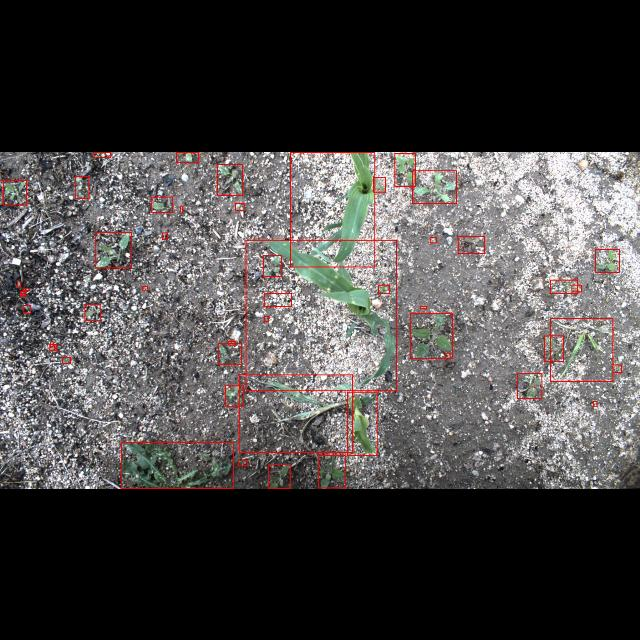crop: (246, 240, 396, 390), (291, 152, 375, 266), (239, 374, 353, 452), (347, 391, 377, 455)
weed: (121, 442, 233, 488), (551, 318, 613, 380), (410, 312, 452, 358), (412, 170, 456, 202), (96, 231, 130, 267), (318, 454, 346, 488), (218, 163, 242, 194), (394, 152, 416, 185), (516, 374, 542, 398), (3, 180, 27, 204), (595, 248, 619, 272), (268, 464, 290, 488), (544, 335, 564, 361), (218, 342, 242, 363), (458, 235, 484, 252), (263, 254, 281, 276), (264, 292, 292, 306), (550, 279, 578, 293), (225, 385, 243, 405), (152, 196, 172, 212), (75, 176, 88, 198), (85, 304, 101, 320), (177, 151, 199, 161), (373, 176, 385, 192), (378, 284, 389, 294), (572, 284, 582, 292), (612, 364, 622, 372), (94, 152, 110, 156), (236, 202, 244, 210), (238, 460, 248, 466), (24, 305, 31, 313), (62, 357, 70, 363), (162, 232, 168, 238), (431, 236, 437, 242), (228, 340, 236, 344), (20, 291, 26, 295), (142, 286, 148, 290), (446, 352, 450, 358), (593, 400, 597, 406), (54, 344, 58, 350), (50, 344, 54, 350), (20, 292, 24, 296), (264, 316, 268, 320), (23, 288, 29, 290), (180, 205, 182, 211), (421, 306, 427, 308), (51, 340, 53, 346), (18, 282, 20, 286)
